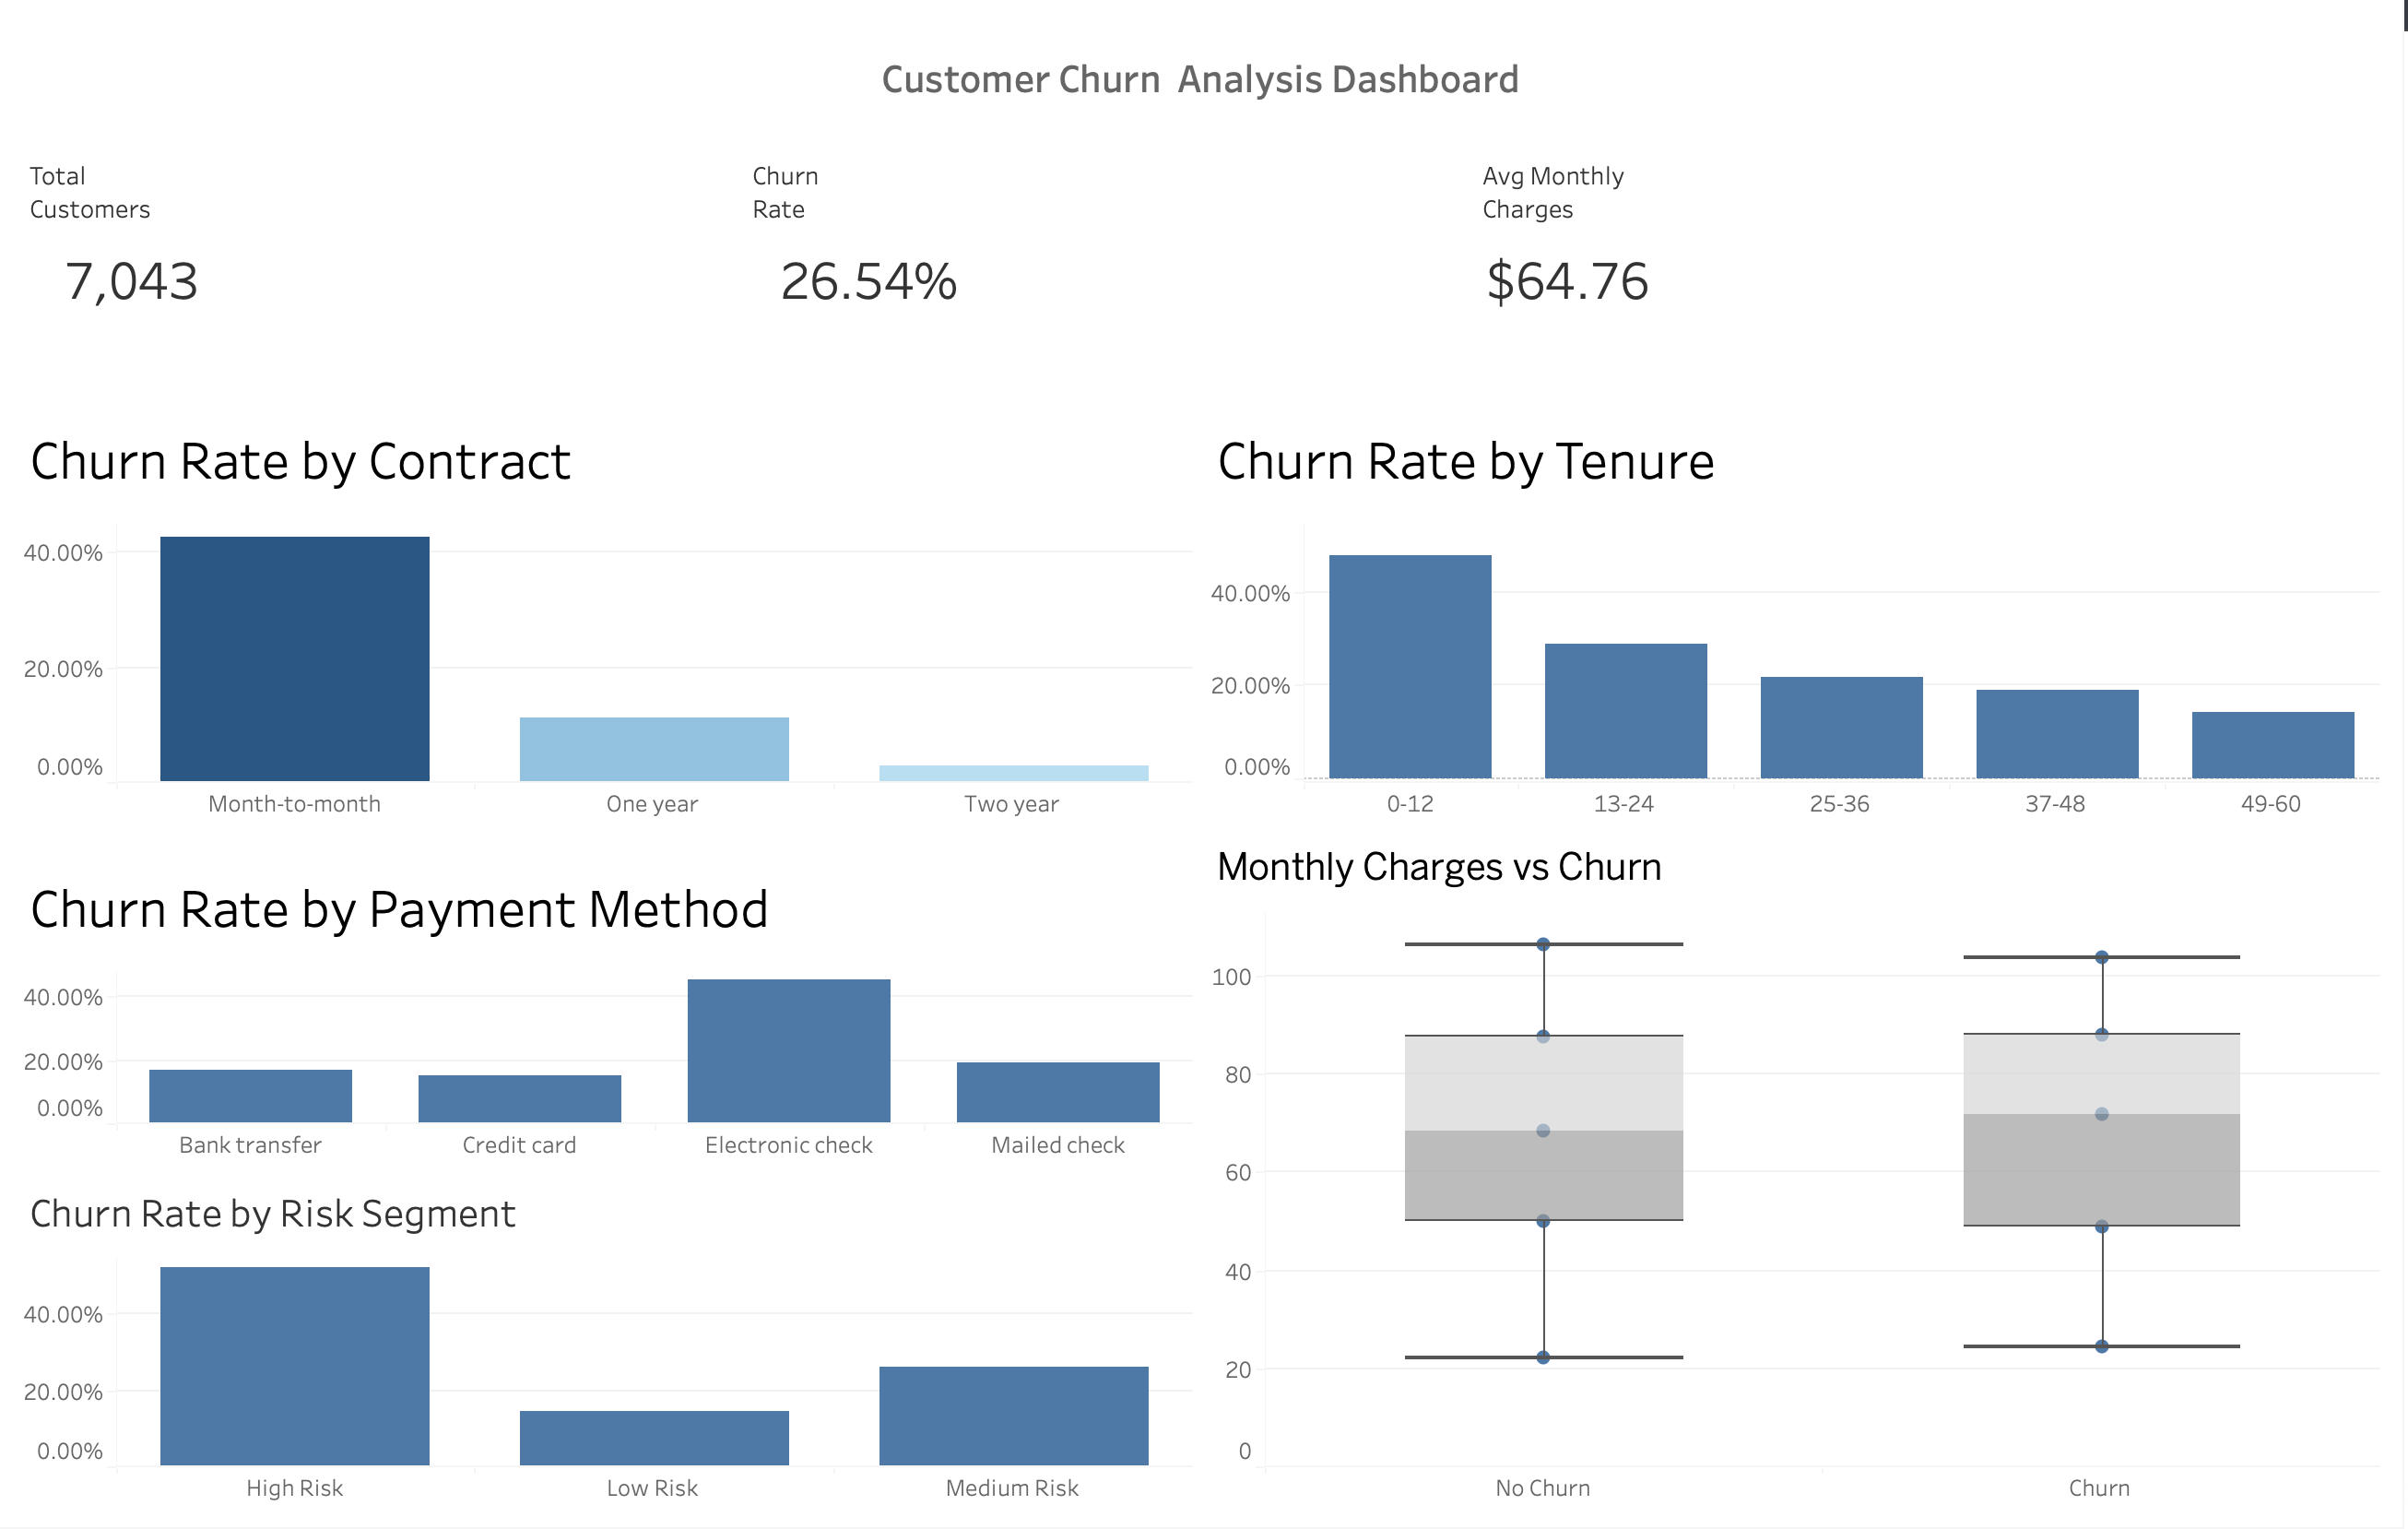

Layout of this report page (visuals, bound fields, positions):
{"tool":"tableau","page":{"name":"Customer Churn Analysis Dashboard","canvas":[1000,1000],"units":"permille","ordinal":0},"visuals":[{"type":"text","box":[6.1,9.7,987.7,85.7]},{"type":"worksheet","title":"Total Customers","mark":"Text","box":[6.1,95.3,300.8,154.4]},{"type":"worksheet","title":"Avg Churn","mark":"Text","box":[307,95.3,303.9,154.4]},{"type":"worksheet","title":"Avg Monthly Charges","mark":"Text","box":[610.9,95.3,383,154.4]},{"type":"worksheet","title":"Churn Rate by Contract","mark":"Automatic","rows":["Churn"],"cols":["Contract"],"box":[6.1,249.7,493.9,293.1]},{"type":"worksheet","title":"Churn Rate by Tenure","mark":"Automatic","rows":["Churn"],"cols":["TenureBucket"],"box":[500,249.7,493.9,293.1]},{"type":"worksheet","title":"Churn Rate by Payment Method","mark":"Automatic","rows":["Churn"],"cols":["PaymentMethod"],"box":[6.1,542.8,493.9,223.8]},{"type":"worksheet","title":"Monthly Charges vs Churn","mark":"Circle","rows":["MonthlyCharges"],"cols":["Churn"],"box":[500,542.8,493.9,447.5]},{"type":"worksheet","title":"Churn Rate by Risk Segment","mark":"Automatic","rows":["Churn"],"cols":["risk_segment"],"box":[6.1,766.6,493.9,223.8]}]}

Visuals, with their boxes on the dashboard's canvas, which has no fixed pixel size, in thousandths of its width and height (x1, y1, x2, y2). These are canvas units, not pixel positions in the 2408x1529 screenshot, which may show the page scaled, cropped or inside an application window:
text: BBox(6, 10, 994, 95)
"Total Customers" worksheet (Text marks): BBox(6, 95, 307, 250)
"Avg Churn" worksheet (Text marks): BBox(307, 95, 611, 250)
"Avg Monthly Charges" worksheet (Text marks): BBox(611, 95, 994, 250)
"Churn Rate by Contract" worksheet: BBox(6, 250, 500, 543)
"Churn Rate by Tenure" worksheet: BBox(500, 250, 994, 543)
"Churn Rate by Payment Method" worksheet: BBox(6, 543, 500, 767)
"Monthly Charges vs Churn" worksheet (Circle marks): BBox(500, 543, 994, 990)
"Churn Rate by Risk Segment" worksheet: BBox(6, 767, 500, 990)
